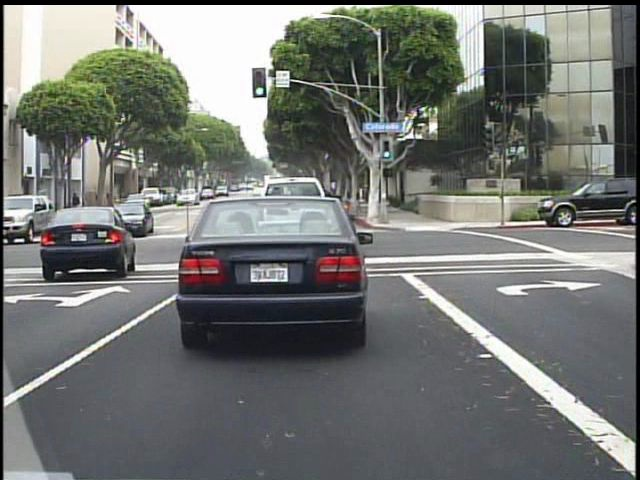person: (69, 189, 86, 221)
